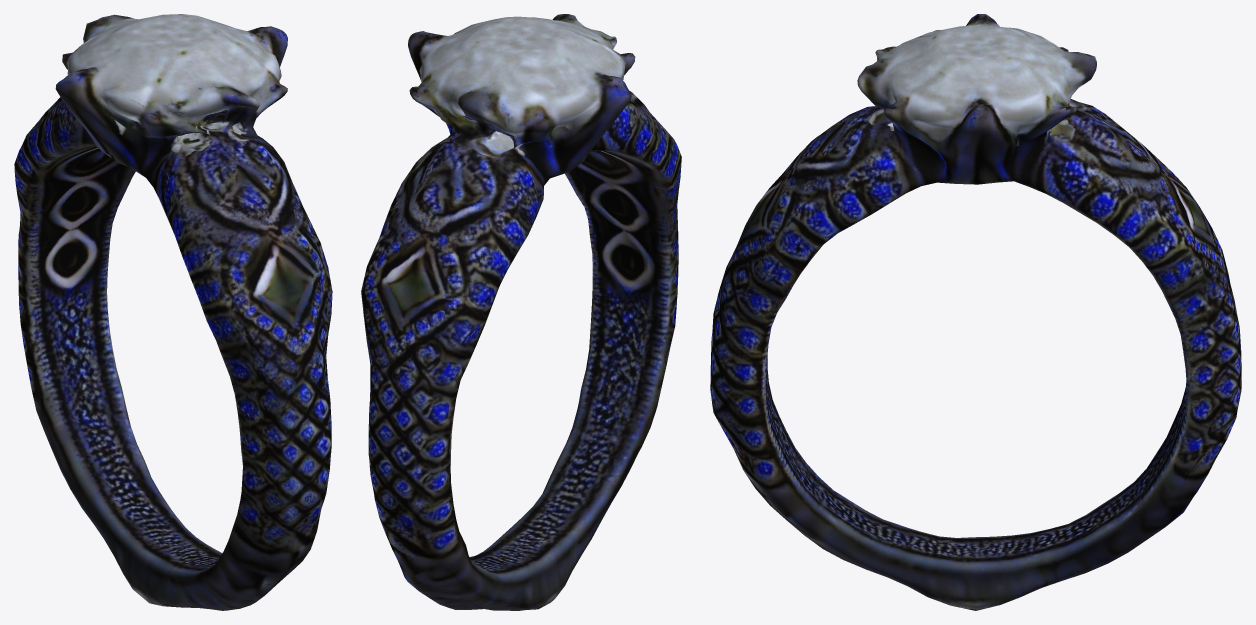
The picture shows the model from 3 angles, left to right: view 1: azimuth 30°, elevation 25°; view 2: azimuth 150°, elevation 25°; view 3: azimuth 270°, elevation 25°; orthographic projection.
Visible parts, largest first — view 1: mesh; view 2: mesh; view 3: mesh.
Part boxes in pixels (x1=…): mesh: x1=14, y1=14, x2=332, y2=610; mesh: x1=361, y1=14, x2=681, y2=610; mesh: x1=710, y1=14, x2=1241, y2=610.
Bounding box in the file's own units: 0.4167 × 0.9996 × 0.8653.
Materials: 1 (1 with a texture image).
